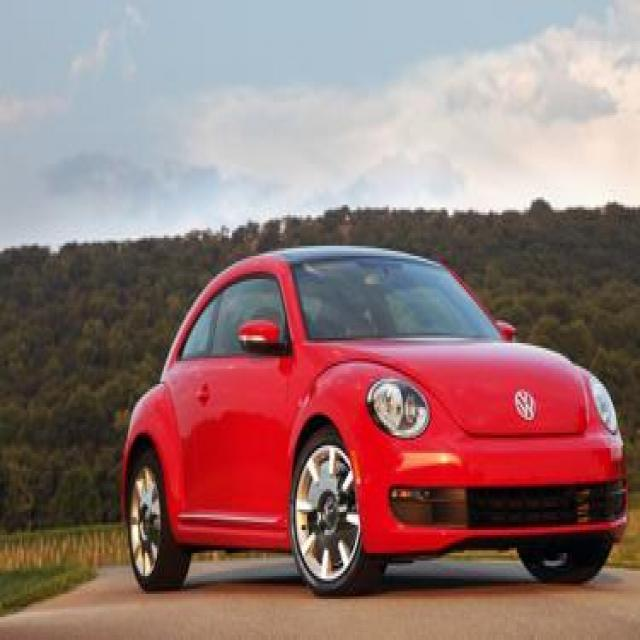Car: (140, 154, 640, 596)
